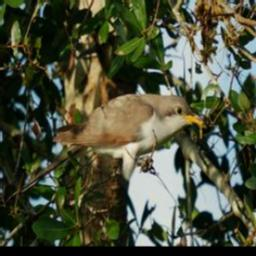Cuckoo: (50, 89, 207, 201)
